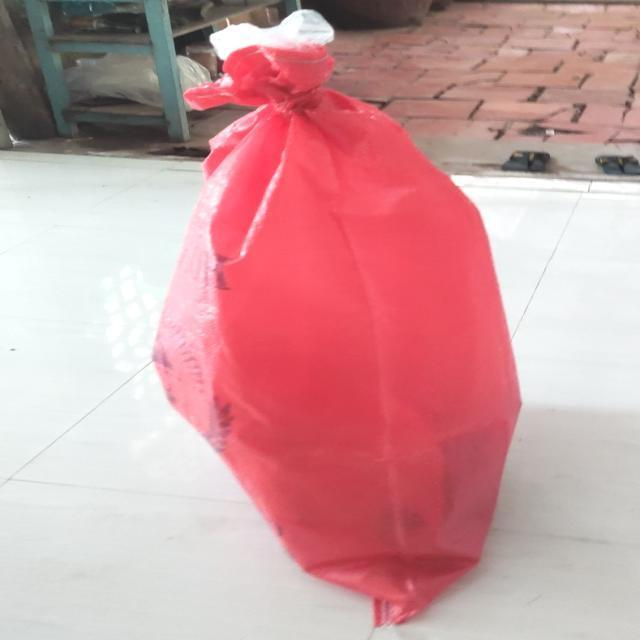gunny_bag: (154, 10, 521, 626)
